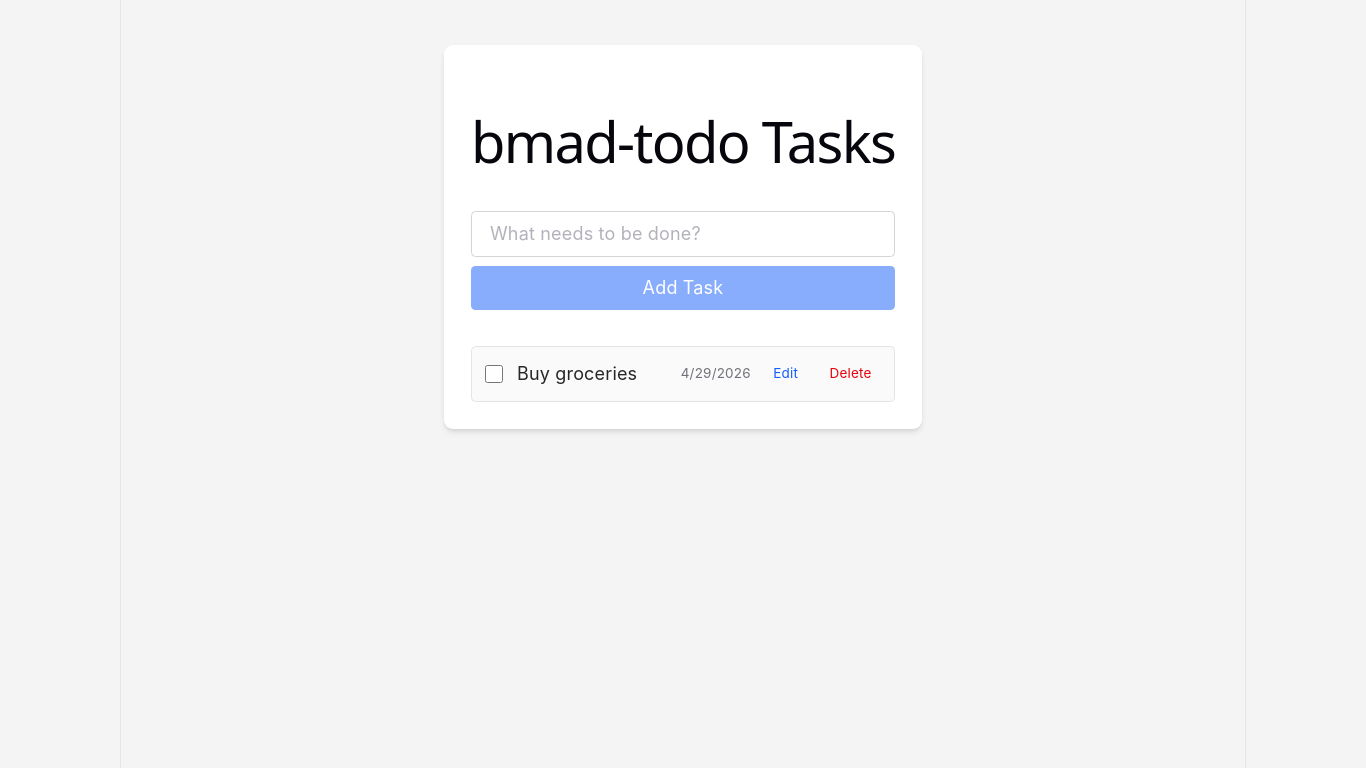
Test: TaskApp › delete task › removes task from list on successful delete
Expected: the text "Buy groceries" is shown, top-left (517, 361), bottom-right (637, 387)
What coordinates should you click on to do the following:
click the button named "delete \"buy groceries\""
I would click on:
 (850, 374)
Its box is top-left (820, 360), bottom-right (880, 387).
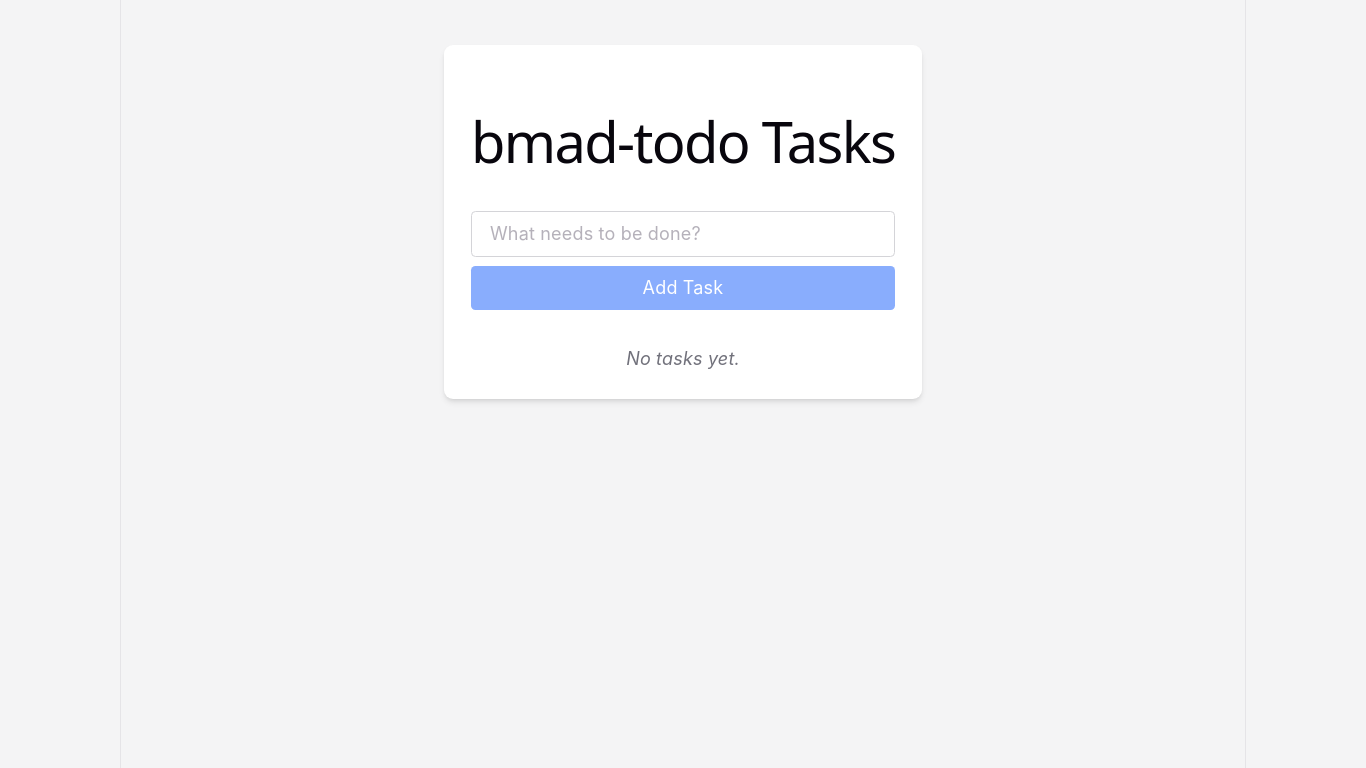
Now the text "Buy groceries" is gone
